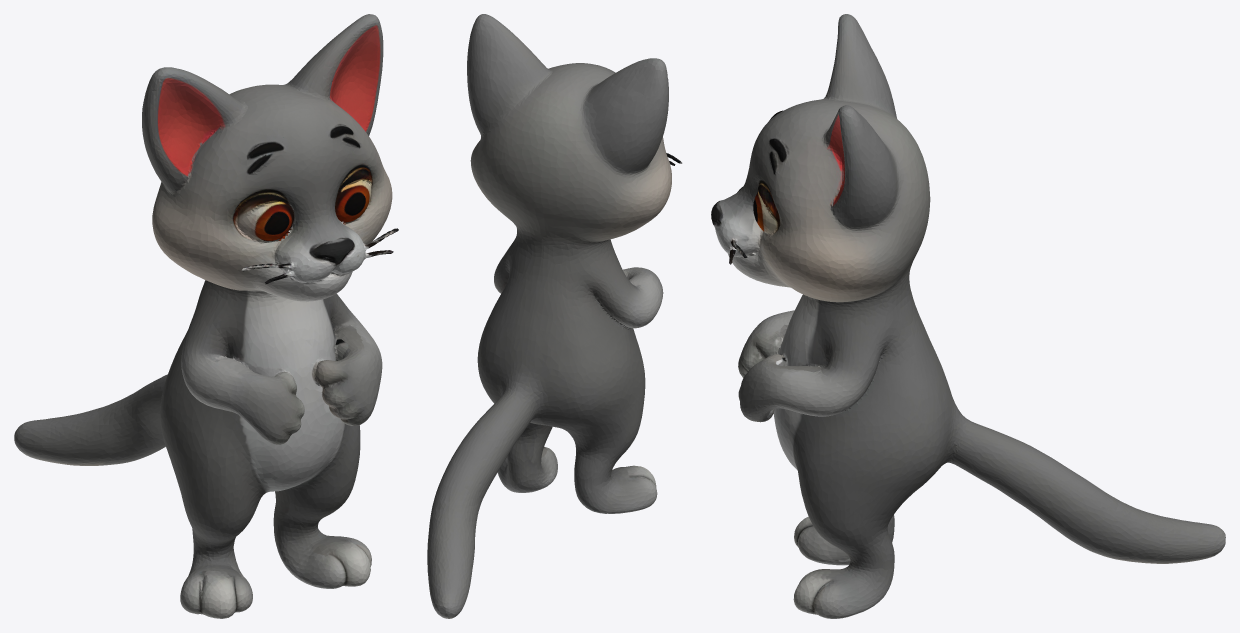
Rendered from npc_cat.glb.
The picture shows the model from 3 angles, left to right: view 1: azimuth 30°, elevation 25°; view 2: azimuth 150°, elevation 25°; view 3: azimuth 270°, elevation 25°; orthographic projection. The views are drawn at different scales.
Visible parts, largest first — view 1: textured_mesh.obj; view 2: textured_mesh.obj; view 3: textured_mesh.obj.
Part boxes in pixels (x1,y1,x2,y2): textured_mesh.obj: [14, 14, 398, 618]; textured_mesh.obj: [427, 14, 682, 618]; textured_mesh.obj: [711, 14, 1225, 618].
Bounding box in the file's own units: 0.8995 × 1.99 × 1.78.
Materials: 1 (1 with a texture image).
